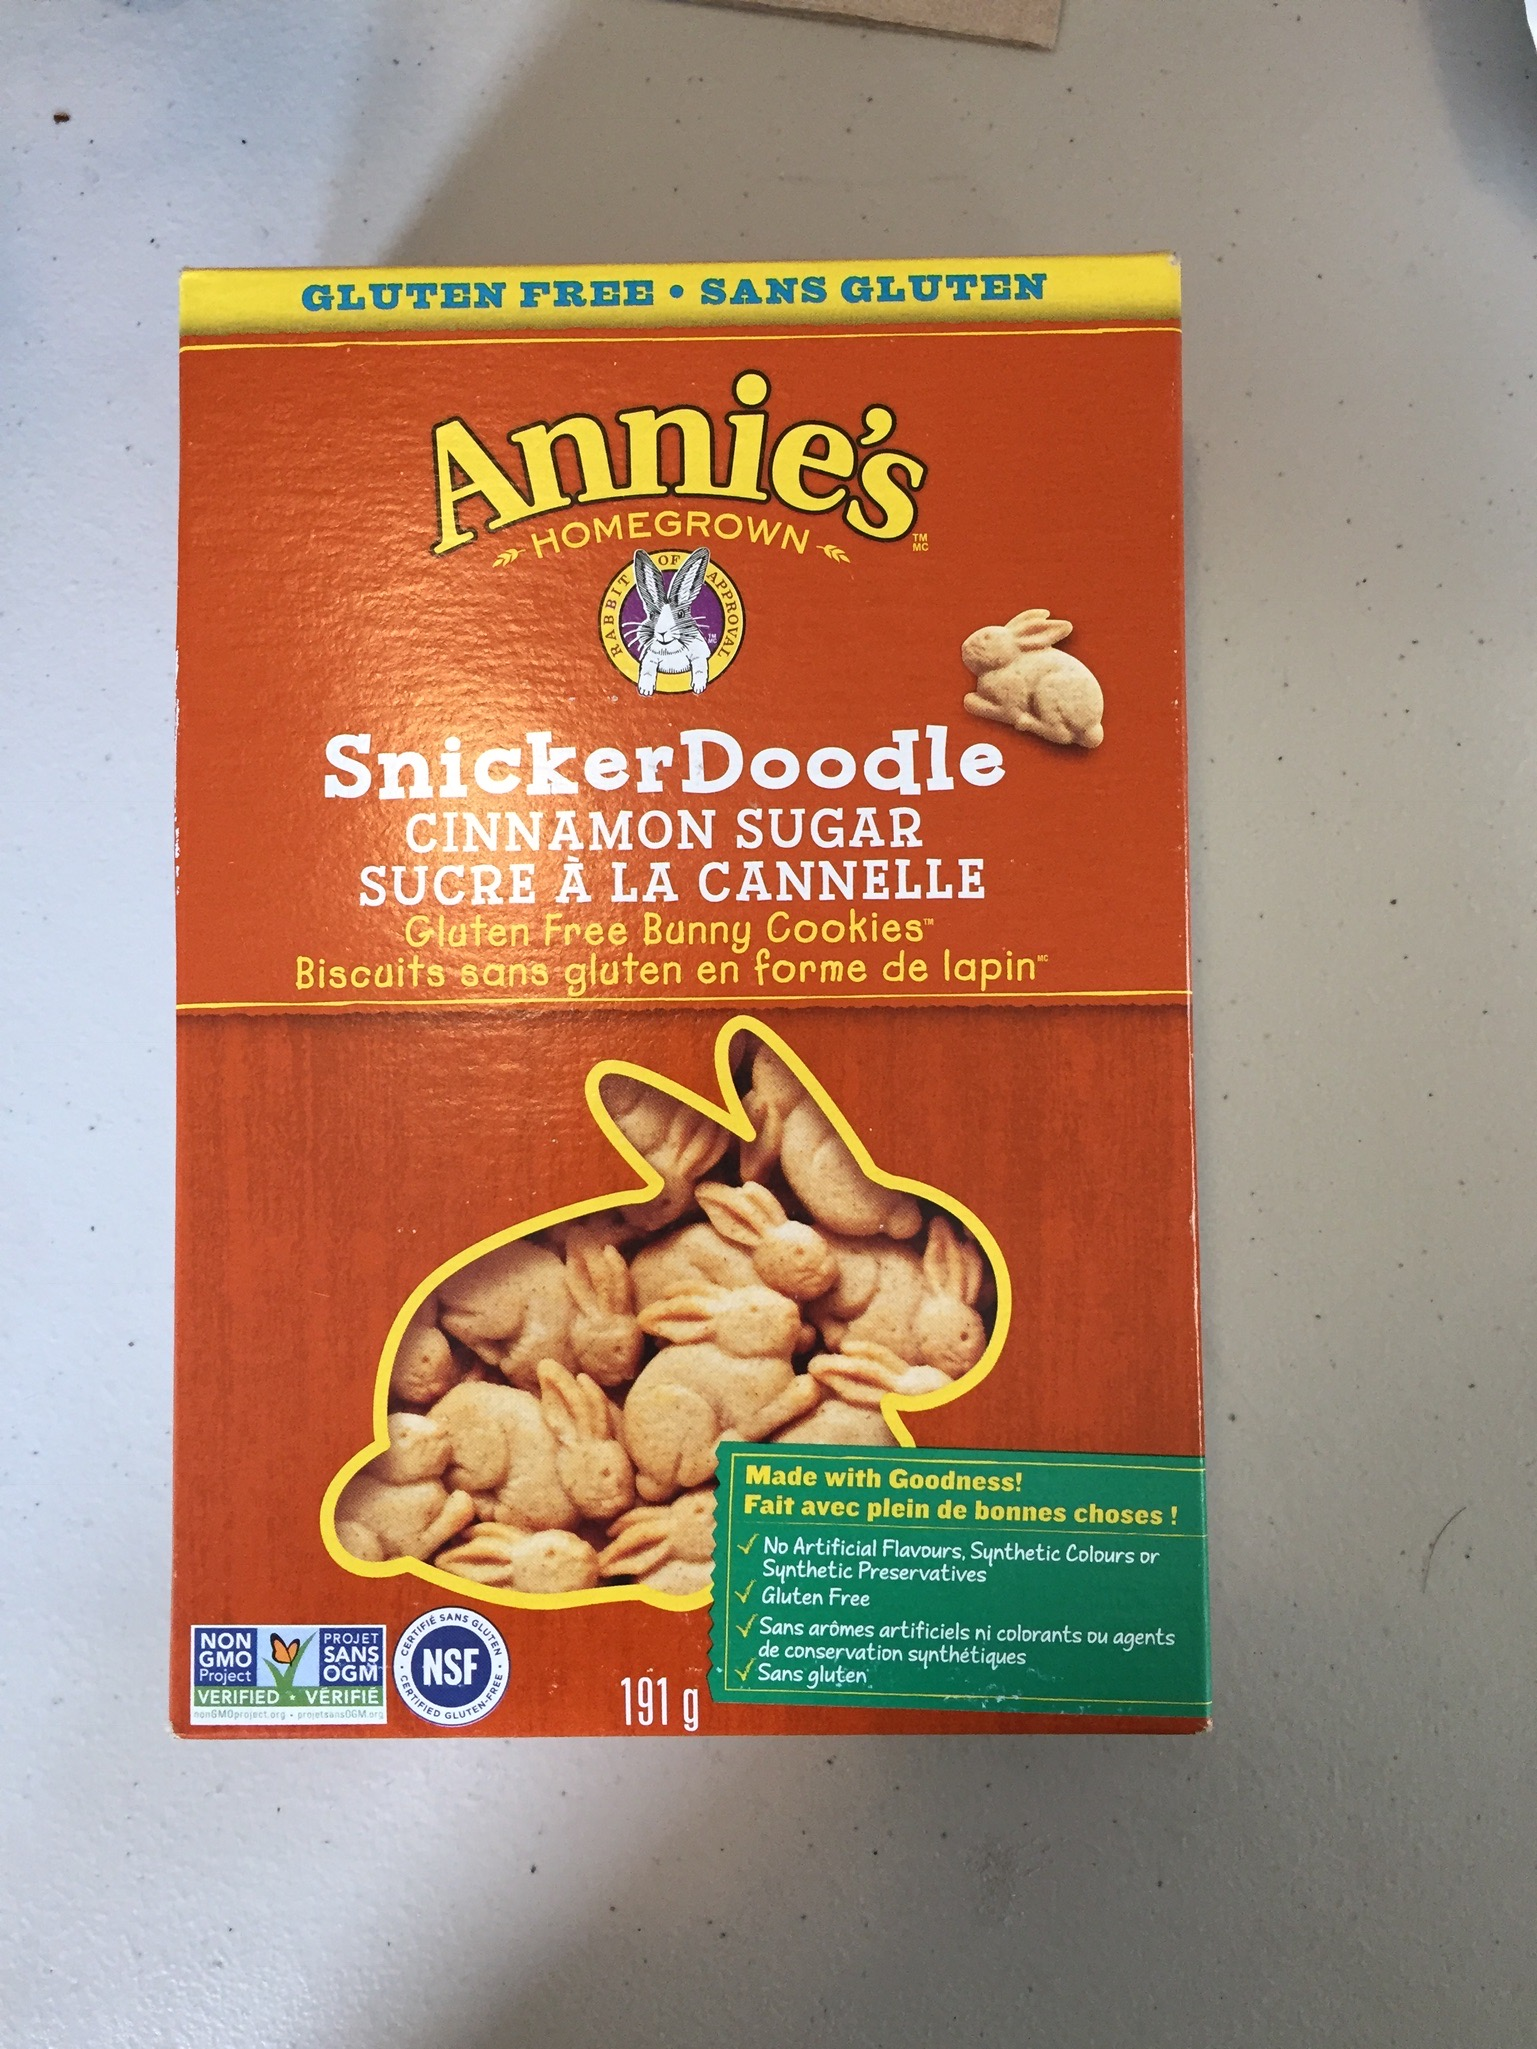annies_snickerdoodle_cinnamon_sugar: (186, 278, 1203, 1720)
